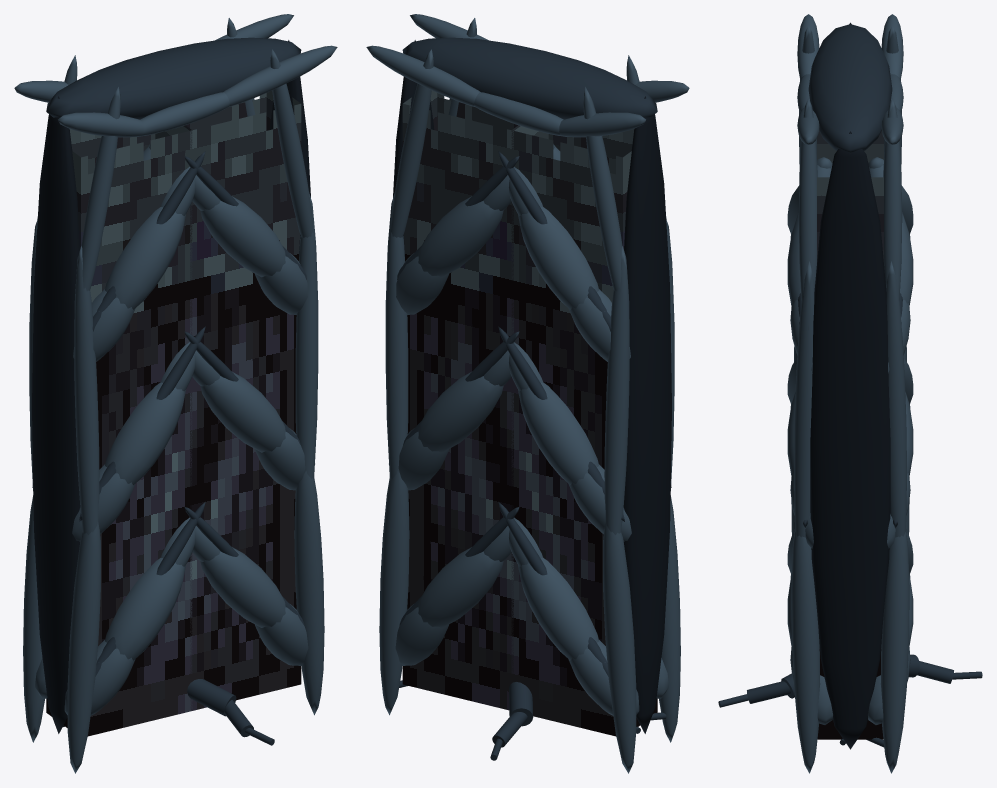
Rendered from CMU3DHiveDoorXenoResinWeedbound.glb.
3 views of the same model, side by side, from view 1: azimuth 30°, elevation 25°; view 2: azimuth 150°, elevation 25°; view 3: azimuth 270°, elevation 25° (orthographic). The views are drawn at different scales.
Visible parts, largest first — view 1: closed contracting membrane (×2), diagonal muscular leaf fold (×15), curved jamb tendon (×8), resin jamb tissue (×2), fleshy overhanging lintel, swept lintel fold (×5), raised leaf seam (×6), sinuous anchoring root; view 2: closed contracting membrane (×2), diagonal muscular leaf fold (×15), curved jamb tendon (×8), resin jamb tissue (×2), fleshy overhanging lintel, swept lintel fold (×5), raised leaf seam (×6), sinuous anchoring root (×2); view 3: resin jamb tissue, curved jamb tendon (×6), fleshy overhanging lintel, diagonal muscular leaf fold (×6), swept lintel fold (×4), closed contracting membrane (×2), sinuous anchoring root (×2).
Part boxes in pixels (x1,y1,x2,y2): closed contracting membrane (×2): (46, 90, 301, 736); diagonal muscular leaf fold (×15): (64, 167, 308, 715); curved jamb tendon (×8): (23, 49, 324, 773); resin jamb tissue (×2): (32, 40, 310, 733); fleshy overhanging lintel: (46, 37, 301, 119); swept lintel fold (×5): (14, 14, 337, 137); raised leaf seam (×6): (156, 151, 238, 575); sinuous anchoring root: (187, 679, 236, 716); closed contracting membrane (×2): (402, 90, 657, 736); diagonal muscular leaf fold (×15): (395, 167, 639, 715); curved jamb tendon (×8): (379, 49, 680, 773); resin jamb tissue (×2): (393, 40, 671, 733); fleshy overhanging lintel: (402, 37, 657, 119); swept lintel fold (×5): (366, 14, 689, 137); raised leaf seam (×6): (465, 151, 547, 575); sinuous anchoring root (×2): (492, 682, 533, 747); resin jamb tissue: (810, 131, 890, 749); curved jamb tendon (×6): (791, 98, 909, 773); fleshy overhanging lintel: (808, 24, 892, 153); diagonal muscular leaf fold (×6): (787, 212, 913, 724); swept lintel fold (×4): (797, 14, 903, 144); closed contracting membrane (×2): (817, 130, 883, 739); sinuous anchoring root (×2): (747, 661, 953, 703).
Bounding box in the file's own units: 1.12 × 2.59 × 0.944.
5 materials, 2 textured.
